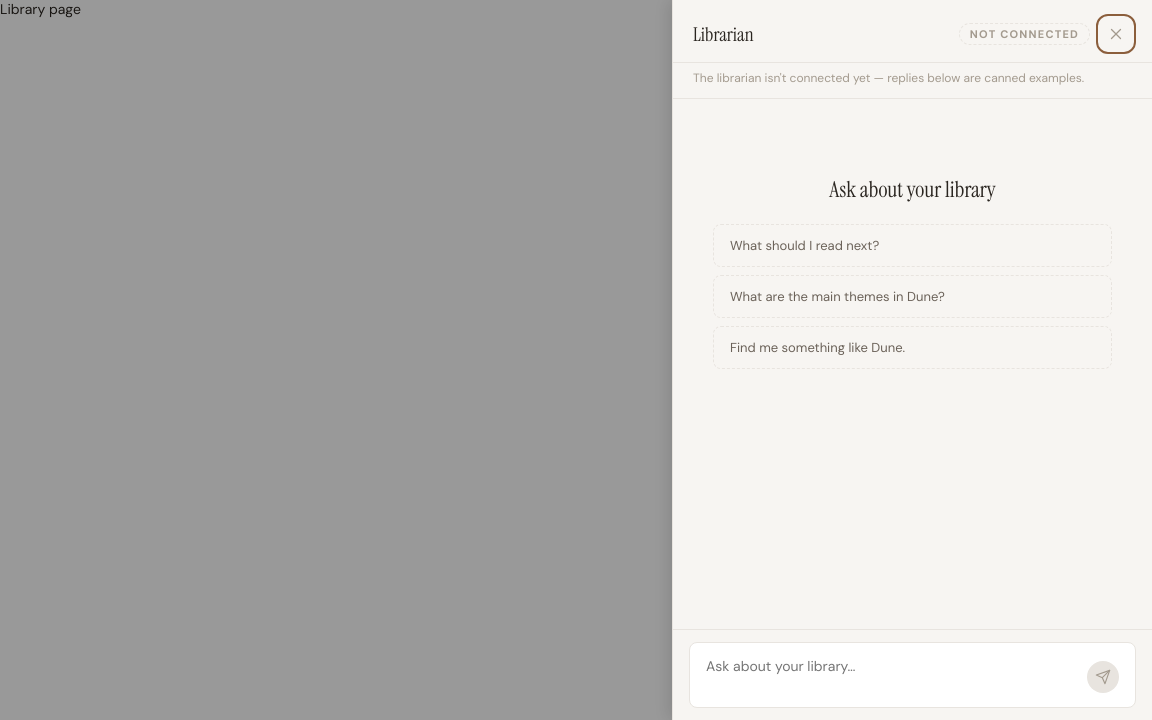
Scenario: LibrarianPanel › renders a citation chip that navigates to the book, keeping the panel open
The width and height of the screenshot is (1152, 720).
Step 1. Click the button "What should I read next?" → [805, 246], box [713,224,1112,267]
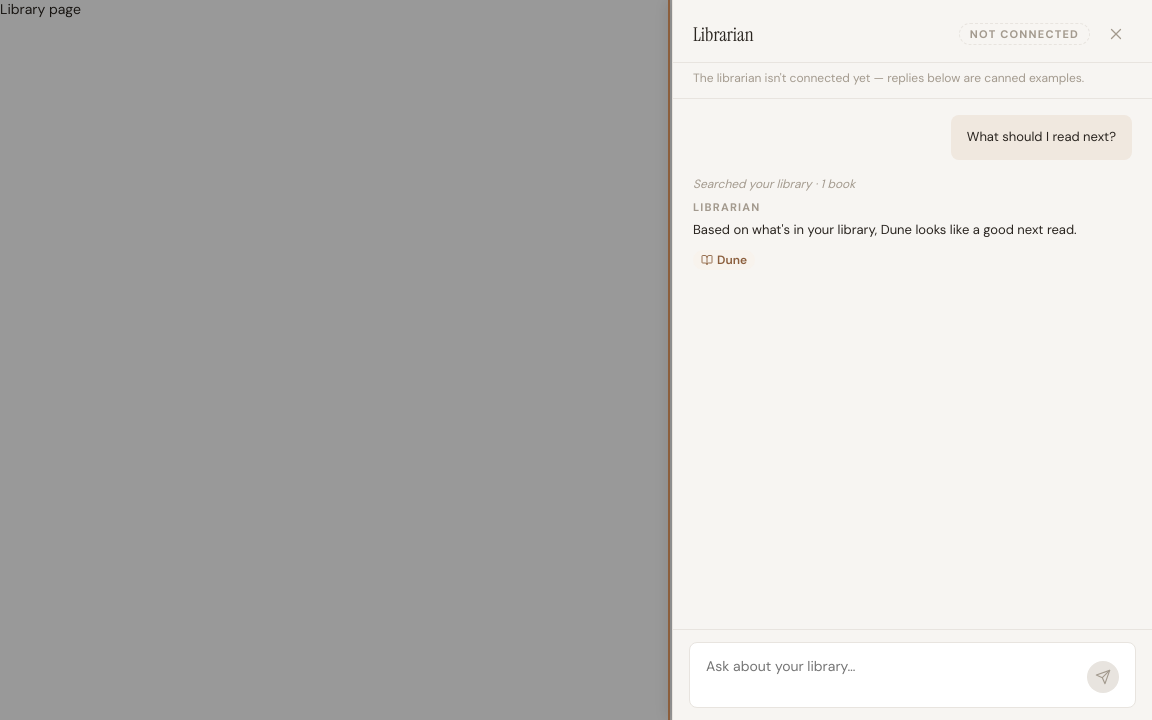
Step 2. Click the link with aria-label "Cited book" → [724, 260], box [693,250,755,270]
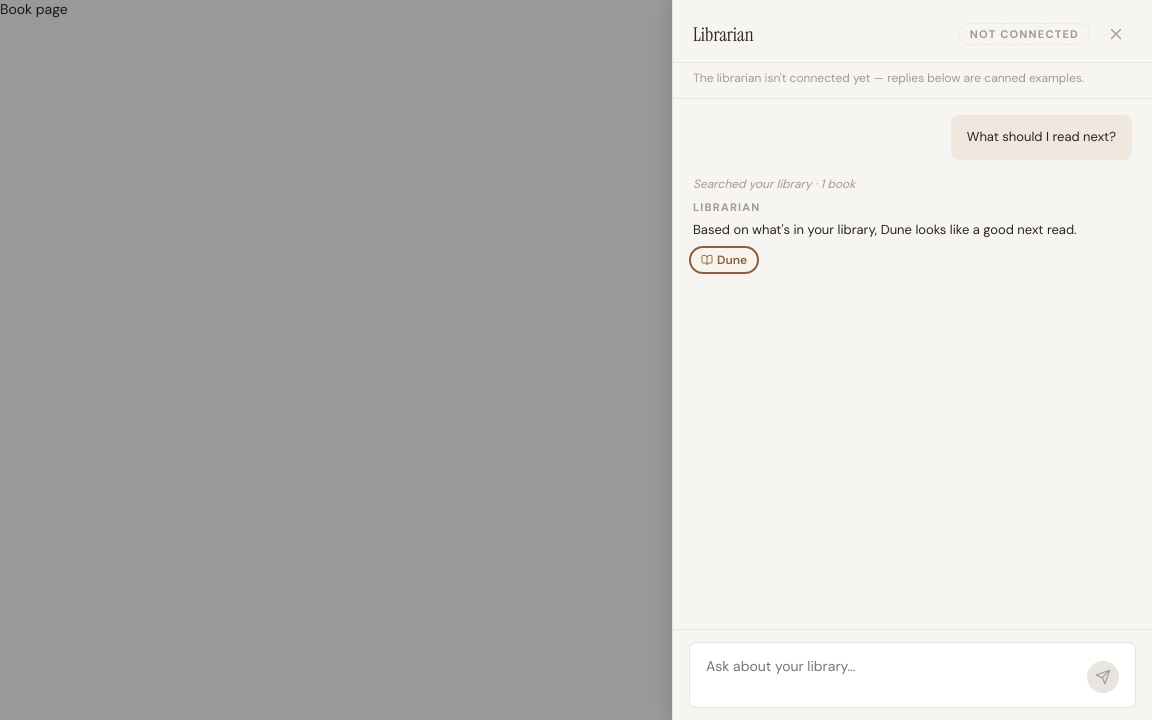
Expected: the heading "Librarian" is shown, [693,22,754,46]
Now the text "Book page" is shown, box [0,0,68,18]
